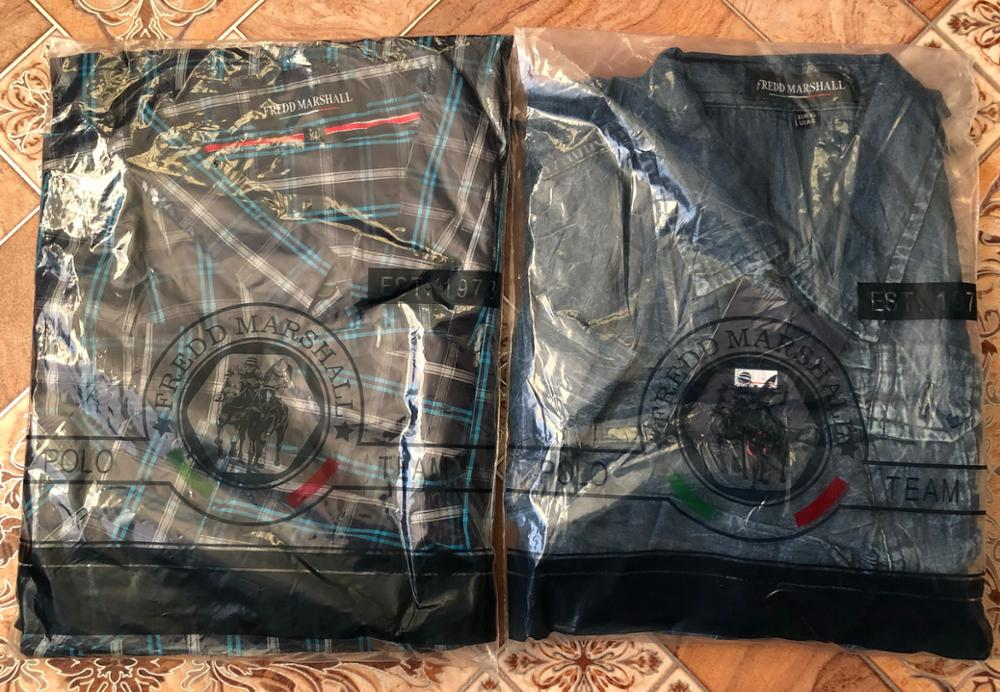shirts: (518, 48, 983, 658), (39, 43, 495, 638)
